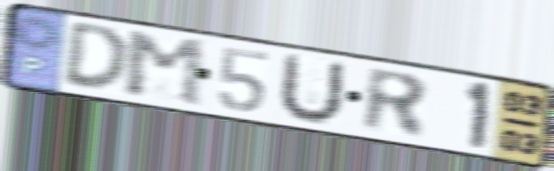1: (460, 78, 492, 152)
5: (215, 44, 272, 114)
D: (59, 22, 133, 95)
M: (124, 30, 208, 110)
R: (360, 64, 431, 142)
U: (274, 50, 348, 127)
